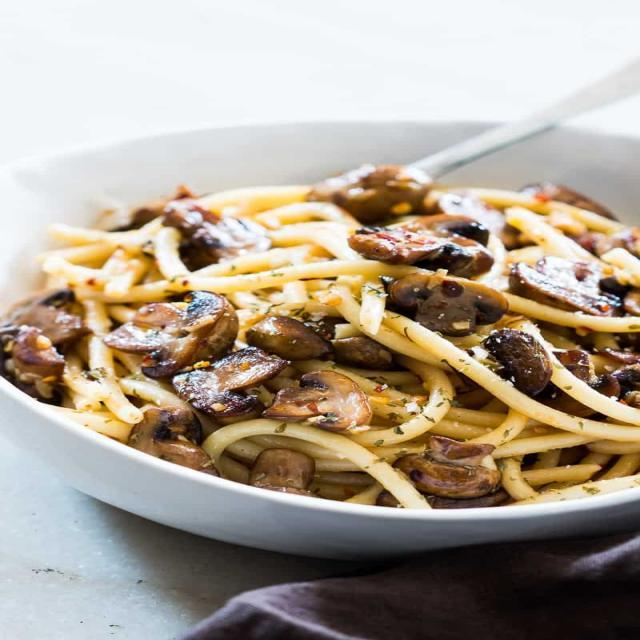Oil pasta: (42, 122, 636, 519)
